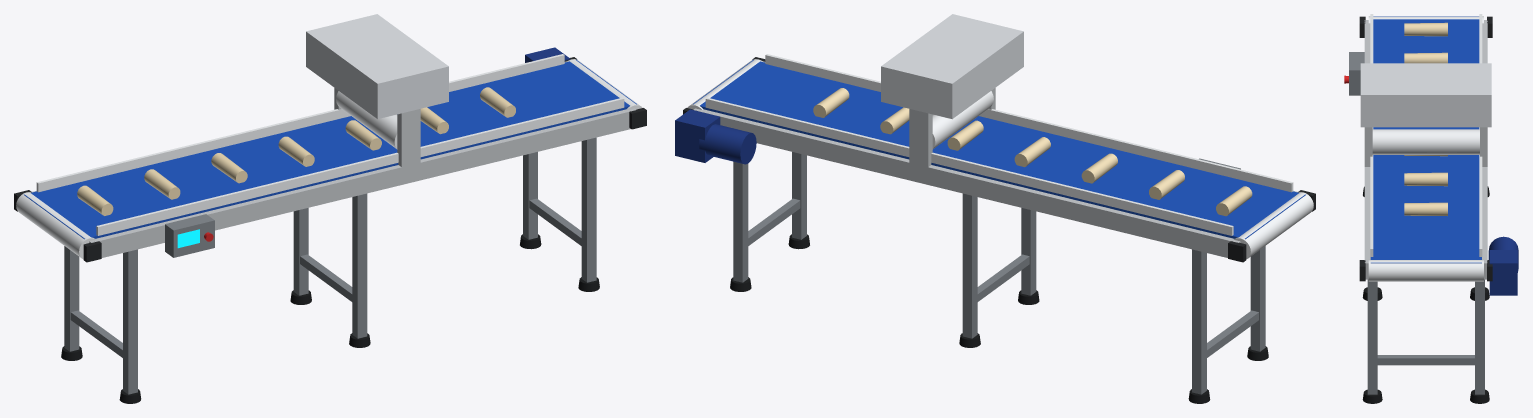
File: conveyor.glb
3 renders of one model, left to right at view 1: azimuth 30°, elevation 25°; view 2: azimuth 150°, elevation 25°; view 3: azimuth 270°, elevation 25°, orthographic. The views are drawn at different scales.
Visible parts, largest first — view 1: SimReady_Conveyor_3m, anim_belt_items; view 2: SimReady_Conveyor_3m, anim_belt_items; view 3: SimReady_Conveyor_3m, anim_belt_items.
Boxes of the visible parts, bbox=[...] form: SimReady_Conveyor_3m: bbox=[14, 14, 646, 403]; anim_belt_items: bbox=[77, 87, 515, 215]; SimReady_Conveyor_3m: bbox=[675, 14, 1315, 403]; anim_belt_items: bbox=[813, 88, 1252, 216]; SimReady_Conveyor_3m: bbox=[1344, 14, 1518, 403]; anim_belt_items: bbox=[1404, 22, 1447, 215].
Bounding box in the file's own units: 3.01 × 1.33 × 0.8775.
